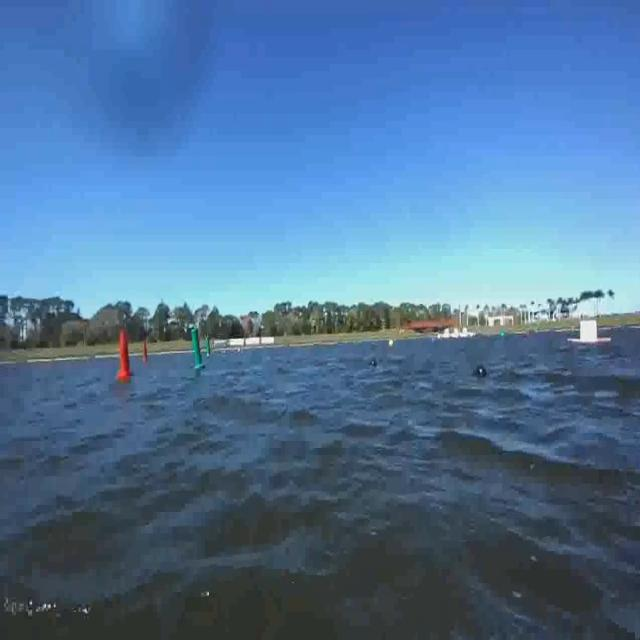green-column-buoy: (189, 327, 204, 370), (205, 329, 212, 363)
red-column-buoy: (116, 328, 132, 379), (140, 334, 150, 364)
